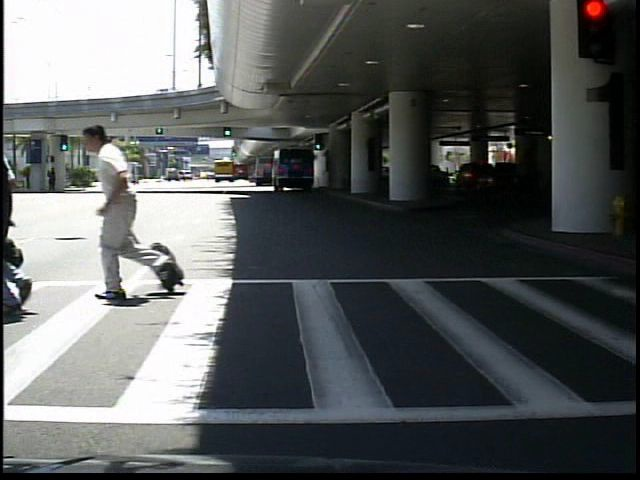person: (90, 121, 172, 300)
